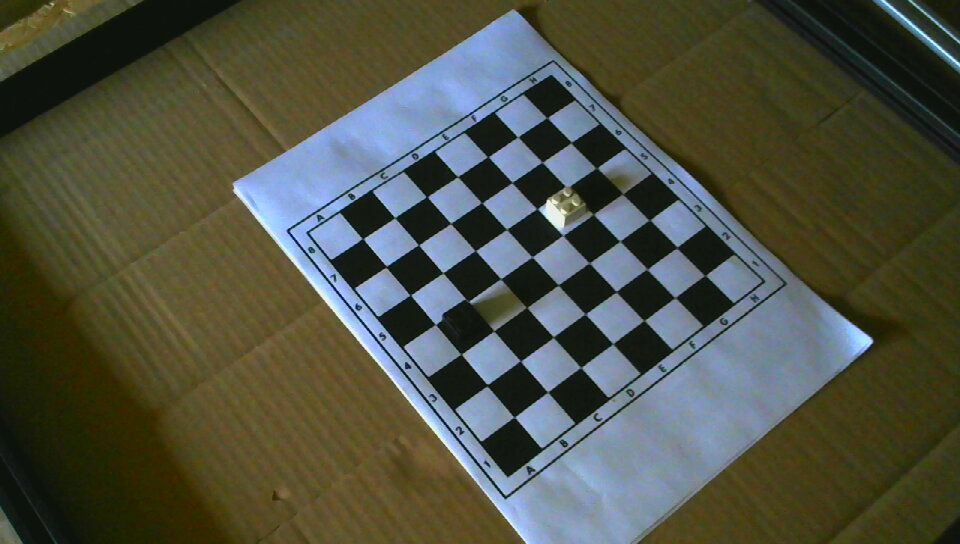bp: (442, 299, 487, 348)
wp: (545, 185, 589, 230)
